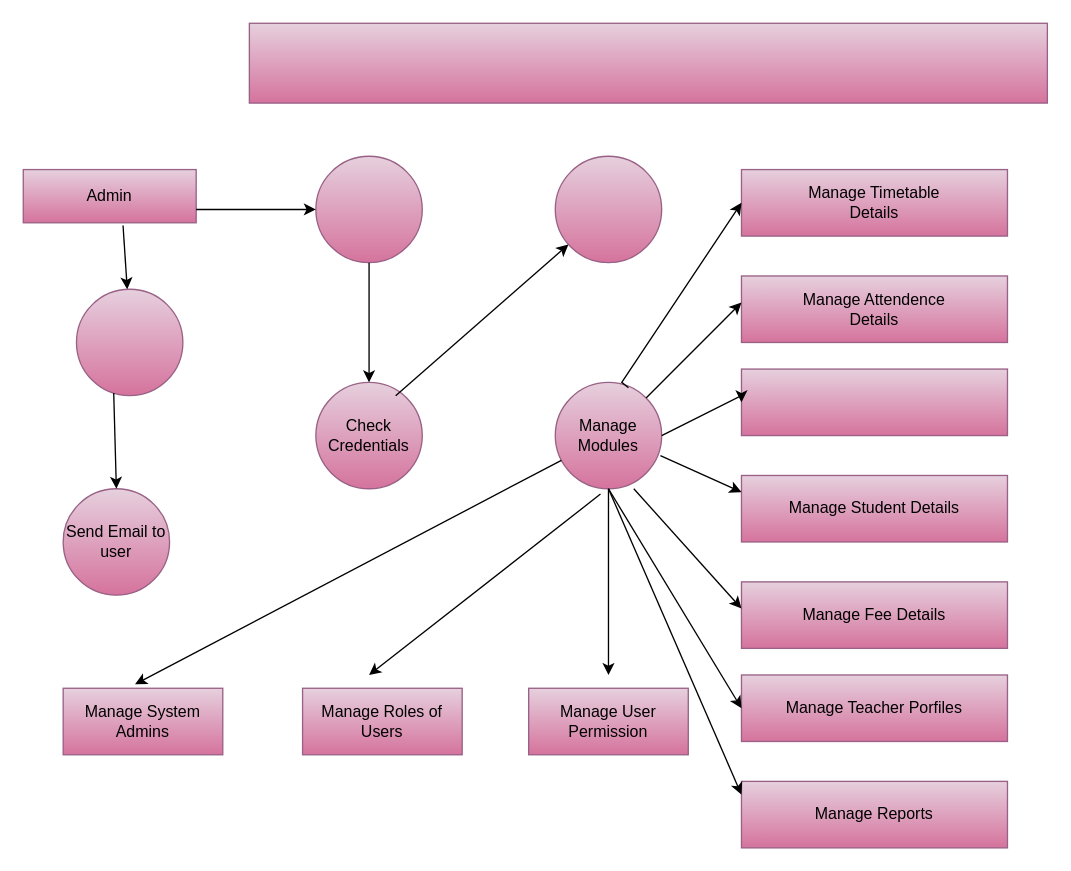
Some shapes in this 1071 by 871 pixel diagram are drawn without their labels. Here are the shapes that lost their labels. From the top down, the centre of each, then its label:
point (647, 62): Student Information System
point (368, 209): Login to system
point (608, 209): Check roles of Access
point (129, 342): Forgot Password
point (873, 402): Manage Class Details
